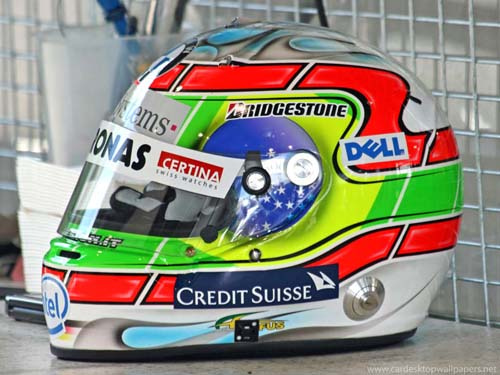helmet: (61, 33, 453, 340)
